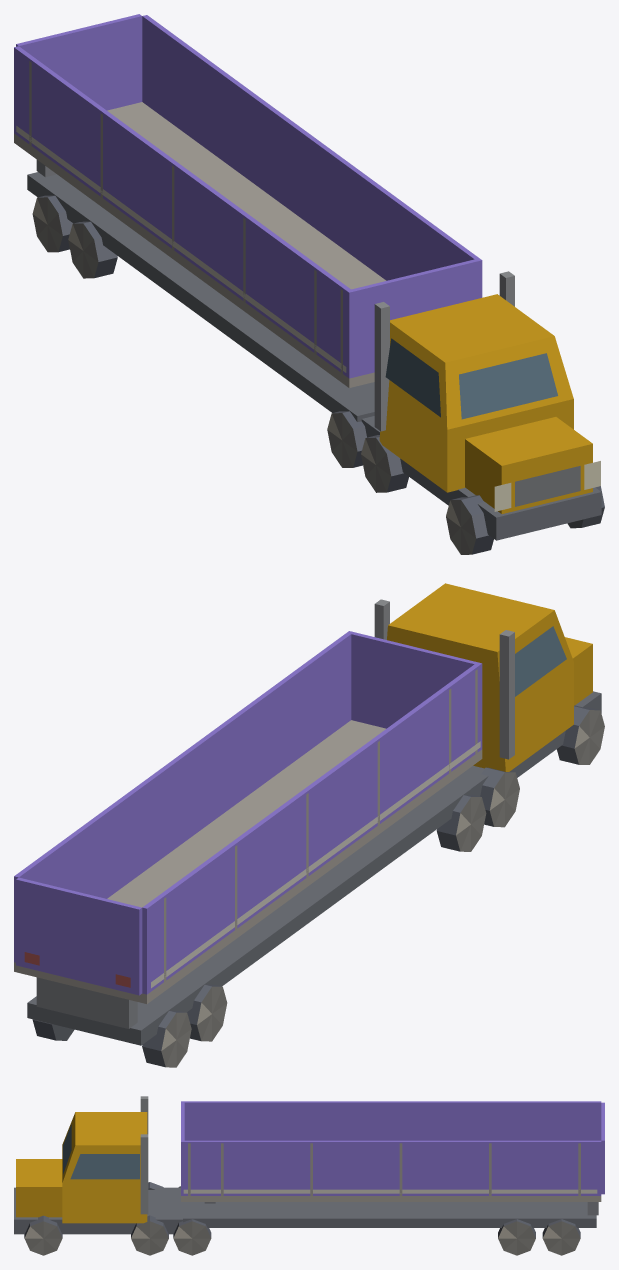
The model's file is grain_hauler_yellow.glb.
3 renders of one model, top to bottom at view 1: azimuth 30°, elevation 25°; view 2: azimuth 150°, elevation 25°; view 3: azimuth 270°, elevation 25°, orthographic. The views are drawn at different scales.
Visible parts, largest first — view 1: DumpBed_Visual, Tractor, Trailer_Hitch, Tailgate_Pivot, Tire_0_L, Tire_3_L, Tire_1_L, Tire_2_L, Tire_4_L; view 2: DumpBed_Visual, Tractor, Trailer_Hitch, Tailgate_Pivot, Tire_0_L, Tire_4_L, Tire_2_L, Tire_1_L, Tire_3_L; view 3: DumpBed_Visual, Tractor, Trailer_Hitch, Tire_0_R, Tire_1_R, Tire_2_R, Tire_4_R, Tire_3_R, Tailgate_Pivot.
Boxes of the visible parts, <box> form: DumpBed_Visual: <box>14,15,482,387</box>; Tractor: <box>361,271,601,540</box>; Trailer_Hitch: <box>27,160,374,421</box>; Tailgate_Pivot: <box>16,14,142,110</box>; Tire_0_L: <box>446,495,493,554</box>; Tire_3_L: <box>68,221,117,278</box>; Tire_1_L: <box>361,435,408,492</box>; Tire_2_L: <box>327,411,366,467</box>; Tire_4_L: <box>32,195,72,252</box>; DumpBed_Visual: <box>14,631,482,1003</box>; Tractor: <box>374,583,601,796</box>; Trailer_Hitch: <box>27,783,470,1045</box>; Tailgate_Pivot: <box>16,877,142,995</box>; Tire_0_L: <box>556,705,604,764</box>; Tire_4_L: <box>142,1010,191,1067</box>; Tire_2_L: <box>436,794,486,851</box>; Tire_1_L: <box>480,767,519,827</box>; Tire_3_L: <box>187,984,227,1041</box>; DumpBed_Visual: <box>181,1101,601,1201</box>; Tractor: <box>14,1096,182,1234</box>; Trailer_Hitch: <box>183,1202,598,1227</box>; Tire_0_R: <box>24,1215,62,1255</box>; Tire_1_R: <box>131,1215,168,1255</box>; Tire_2_R: <box>173,1219,211,1255</box>; Tire_4_R: <box>542,1219,580,1255</box>; Tire_3_R: <box>498,1219,535,1255</box>; Tailgate_Pivot: <box>601,1102,604,1194</box>.
Size of the model in its own units: 2.51 by 3.39 by 15.21.
